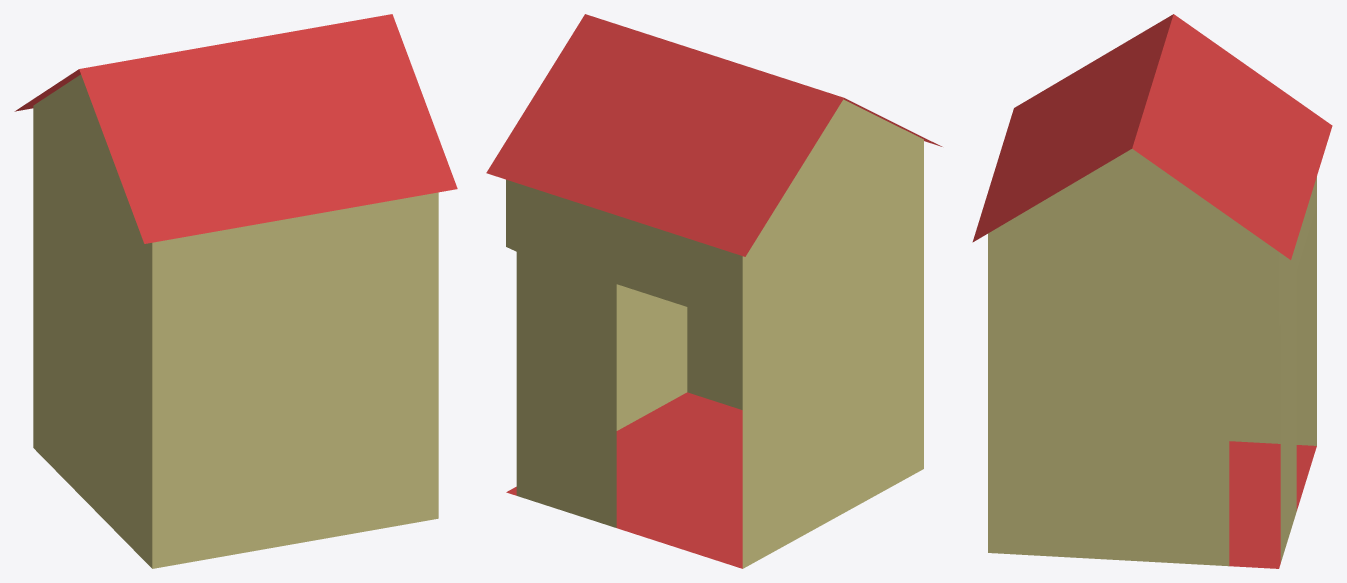
The picture shows the model from 3 angles, left to right: view 1: azimuth 30°, elevation 25°; view 2: azimuth 150°, elevation 25°; view 3: azimuth 270°, elevation 25°; orthographic projection. The views are drawn at different scales.
Bounding box in the file's own units: 12.98 × 12.98 × 16.63.
